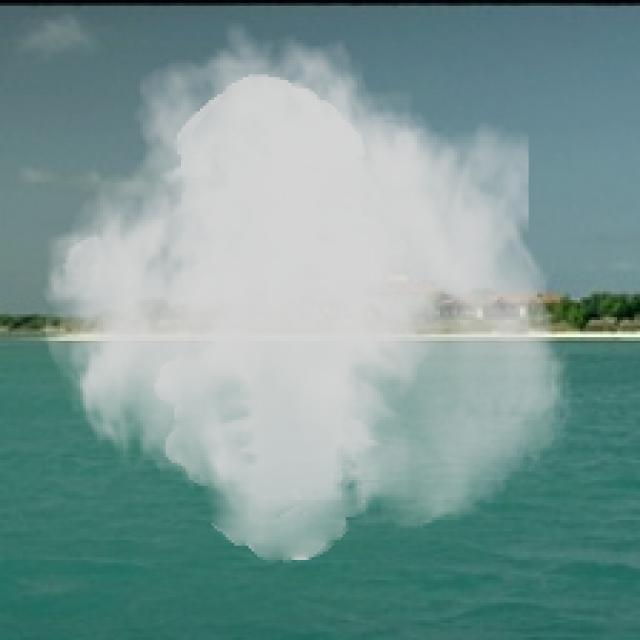Smoke: (37, 20, 577, 563)
